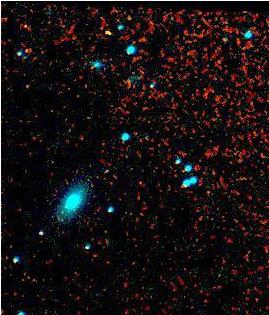star: (65, 176, 95, 206)
